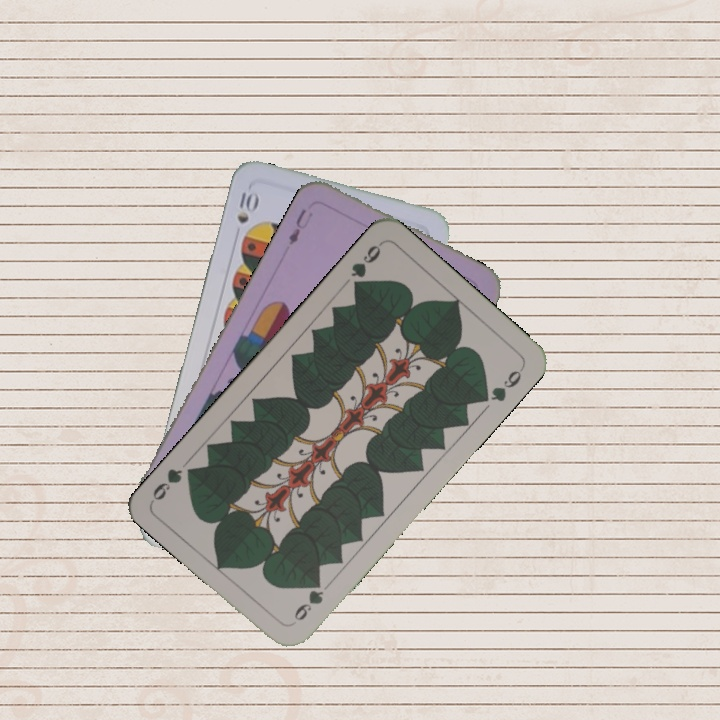EU: (284, 204, 316, 248)
G9: (346, 238, 385, 293), (289, 574, 327, 624)
S10: (232, 187, 260, 227)
